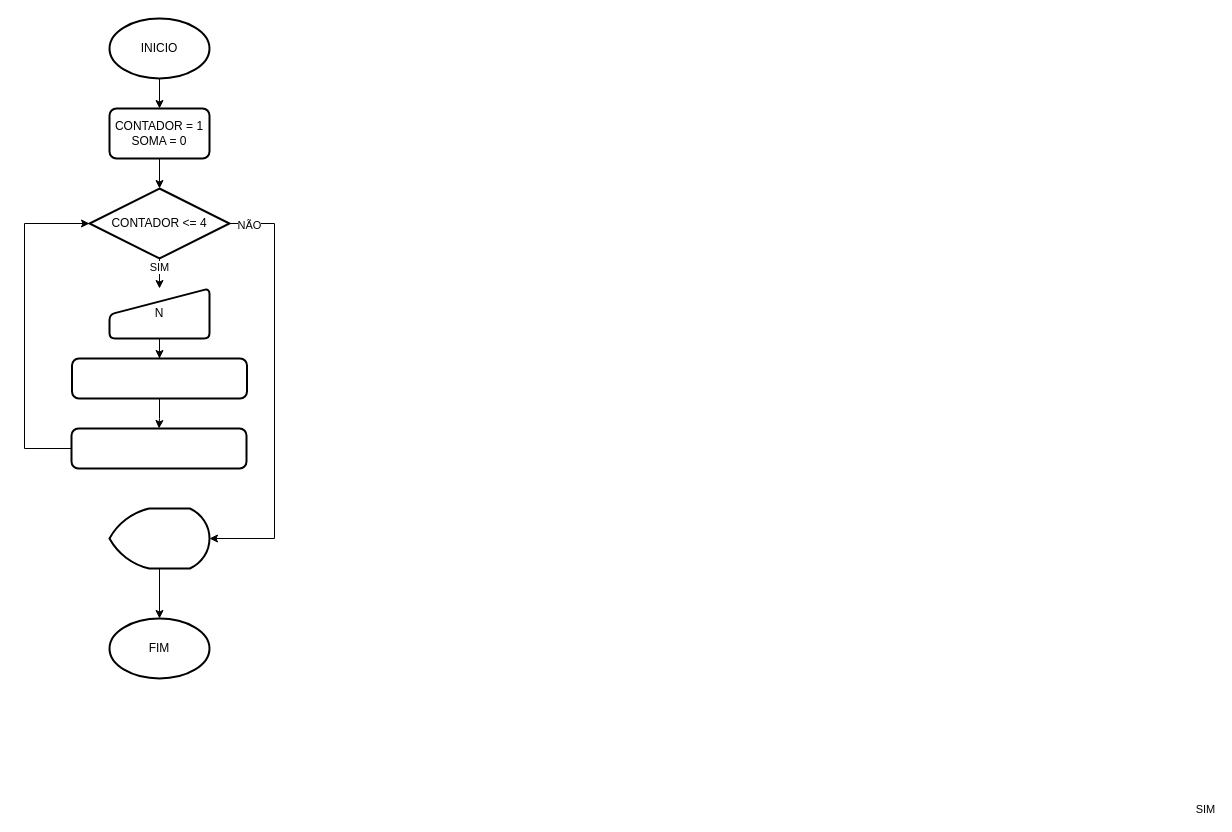
The diagram is 1232 pixels wide and 832 high, and some of its shapes have lost their labels. The shapes that lost their labels are listed below. From the top down, each one's centre as x and y in pixels, then its label:
the point at 159,378: SOMA = N * N + SOMA
the point at 158,448: CONTADOR = CONTADOR + 1
the point at 159,538: SOMA
